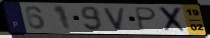1: (53, 5, 74, 32)
6: (24, 5, 47, 30)
9: (80, 5, 105, 32)
P: (135, 7, 159, 32)
V: (103, 7, 128, 31)
X: (158, 6, 190, 34)
